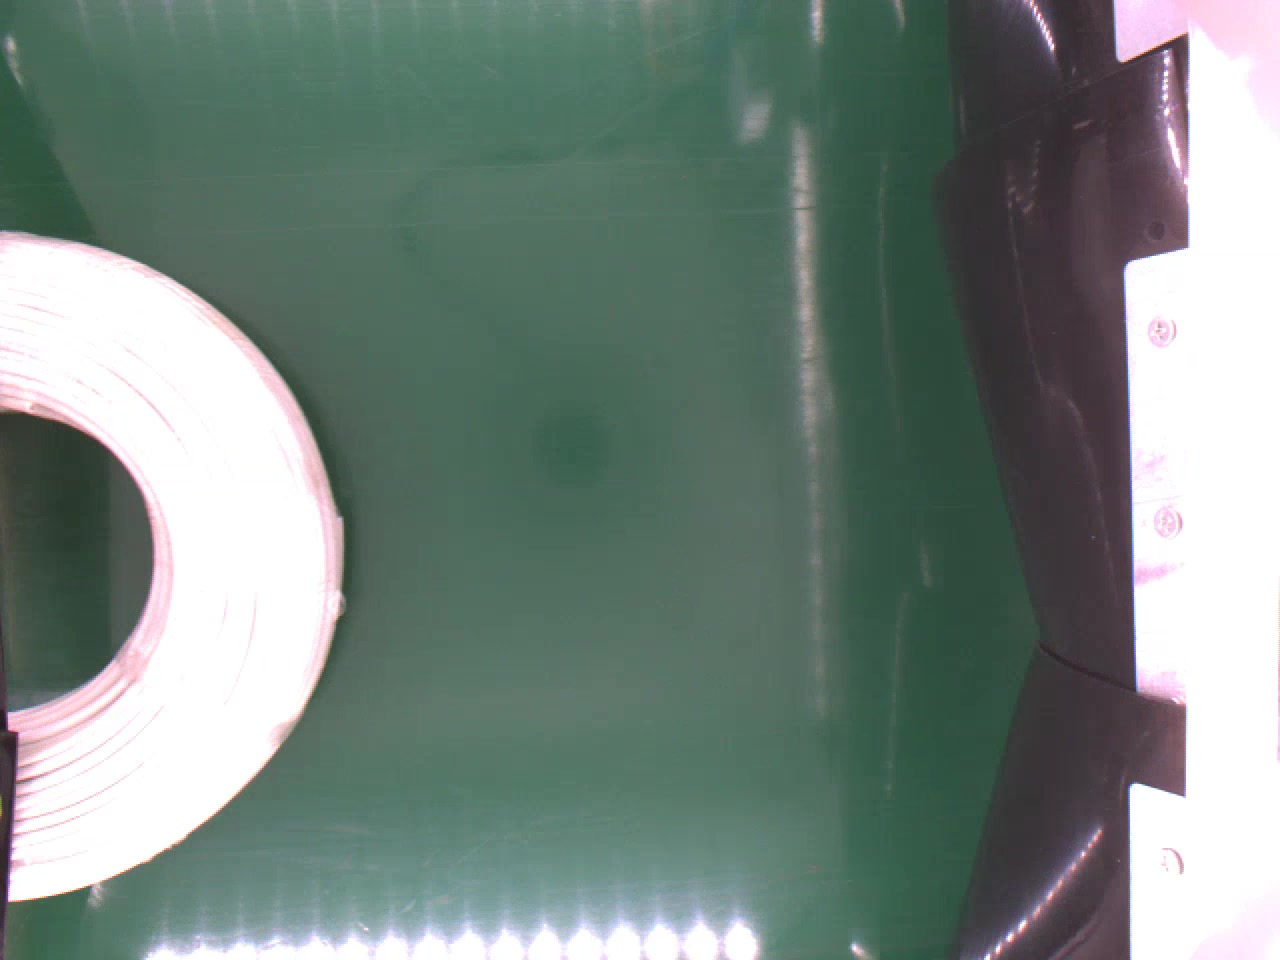white: (0, 226, 345, 903)
